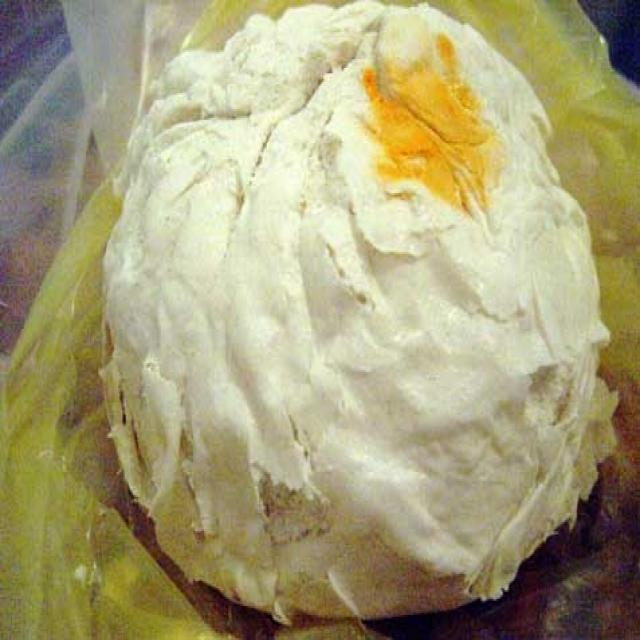带馅早点: (50, 31, 613, 588)
